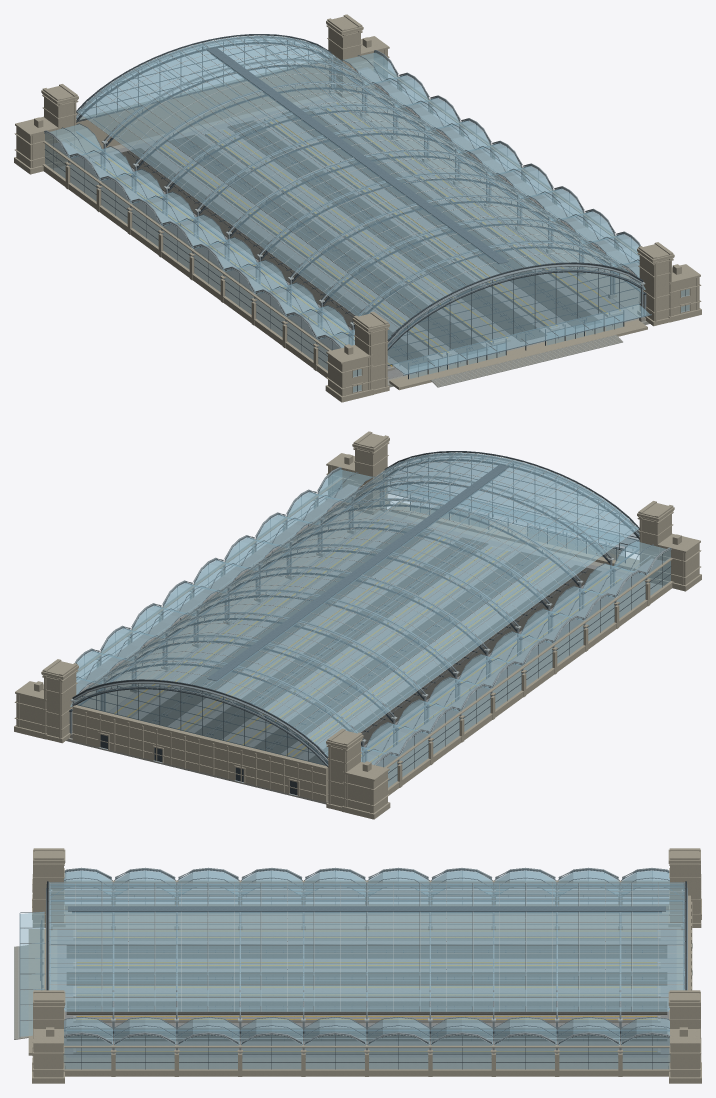
The model's file is RAIL01_lod2.glb.
The picture shows the model from 3 angles, top to bottom: view 1: azimuth 30°, elevation 25°; view 2: azimuth 150°, elevation 25°; view 3: azimuth 270°, elevation 25°; orthographic projection. The views are drawn at different scales.
Visible parts, largest first — view 1: Low_Iron_Glass_Panels__safety_glass, Track_Ballast__ballast, Concourse_Floor__paving, Side_Scalloped_Glass__safety_glass, Platform_Paving__paving, Front_Gable_Glass__safety_glass, Side_Arched_Curtain_Wall__safety_glass, Side_Annex_Floor__concrete, Main_Arch_I_Beams__galvanized_steel, Rear_Lower_Masonry__stone, Glass_Longitudinal_Caps__brushed_metal, Truss_Inner_Chords__dark_steel (+36 smaller); view 2: Low_Iron_Glass_Panels__safety_glass, Track_Ballast__ballast, Side_Scalloped_Glass__safety_glass, Concourse_Floor__paving, Platform_Paving__paving, Side_Arched_Curtain_Wall__safety_glass, Side_Annex_Floor__concrete, Main_Arch_I_Beams__galvanized_steel, Rear_Lower_Masonry__stone, Rear_Upper_Glass__safety_glass, Front_Gable_Glass__safety_glass, Glass_Longitudinal_Caps__brushed_metal (+36 smaller); view 3: Low_Iron_Glass_Panels__safety_glass, Track_Ballast__ballast, Side_Arched_Curtain_Wall__safety_glass, Concourse_Floor__paving, Platform_Paving__paving, Side_Annex_Floor__concrete, Side_Scalloped_Glass__safety_glass, Glass_Longitudinal_Caps__brushed_metal, Longitudinal_Purlins__galvanized_steel, Platform_Slabs__concrete, Side_Gallery_Walkway__paving, Tactile_Strip__tactile (+32 smaller).
Part boxes in pixels (bbox=[...]): Low_Iron_Glass_Panels__safety_glass: bbox=[77, 35, 629, 338]; Track_Ballast__ballast: bbox=[114, 107, 601, 369]; Concourse_Floor__paving: bbox=[86, 96, 637, 378]; Side_Scalloped_Glass__safety_glass: bbox=[50, 53, 645, 347]; Platform_Paving__paving: bbox=[94, 103, 621, 367]; Front_Gable_Glass__safety_glass: bbox=[387, 266, 640, 364]; Side_Arched_Curtain_Wall__safety_glass: bbox=[45, 52, 639, 370]; Side_Annex_Floor__concrete: bbox=[52, 91, 645, 370]; Main_Arch_I_Beams__galvanized_steel: bbox=[76, 36, 642, 340]; Rear_Lower_Masonry__stone: bbox=[76, 59, 328, 153]; Glass_Longitudinal_Caps__brushed_metal: bbox=[77, 35, 633, 339]; Truss_Inner_Chords__dark_steel: bbox=[76, 42, 641, 347]; Low_Iron_Glass_Panels__safety_glass: bbox=[86, 452, 638, 755]; Track_Ballast__ballast: bbox=[141, 524, 601, 764]; Side_Scalloped_Glass__safety_glass: bbox=[70, 470, 665, 764]; Concourse_Floor__paving: bbox=[109, 513, 629, 760]; Platform_Paving__paving: bbox=[114, 520, 621, 762]; Side_Arched_Curtain_Wall__safety_glass: bbox=[76, 469, 670, 787]; Side_Annex_Floor__concrete: bbox=[70, 508, 663, 787]; Main_Arch_I_Beams__galvanized_steel: bbox=[74, 453, 639, 757]; Rear_Lower_Masonry__stone: bbox=[72, 705, 328, 802]; Rear_Upper_Glass__safety_glass: bbox=[75, 683, 328, 765]; Front_Gable_Glass__safety_glass: bbox=[386, 456, 639, 553]; Glass_Longitudinal_Caps__brushed_metal: bbox=[82, 452, 638, 756]; Low_Iron_Glass_Panels__safety_glass: bbox=[49, 882, 684, 1011]; Track_Ballast__ballast: bbox=[66, 945, 667, 1041]; Side_Arched_Curtain_Wall__safety_glass: bbox=[63, 870, 670, 1069]; Concourse_Floor__paving: bbox=[57, 929, 676, 1057]; Platform_Paving__paving: bbox=[76, 930, 657, 1052]; Side_Annex_Floor__concrete: bbox=[52, 911, 681, 1069]; Side_Scalloped_Glass__safety_glass: bbox=[64, 871, 669, 1045]; Glass_Longitudinal_Caps__brushed_metal: bbox=[49, 882, 684, 1011]; Longitudinal_Purlins__galvanized_steel: bbox=[51, 883, 682, 1008]; Platform_Slabs__concrete: bbox=[73, 930, 660, 1054]; Side_Gallery_Walkway__paving: bbox=[64, 890, 669, 1048]; Tactile_Strip__tactile: bbox=[76, 930, 657, 1051].
Size of the model in its own units: 159 by 36.37 by 258.
11 materials, 11 textured.
